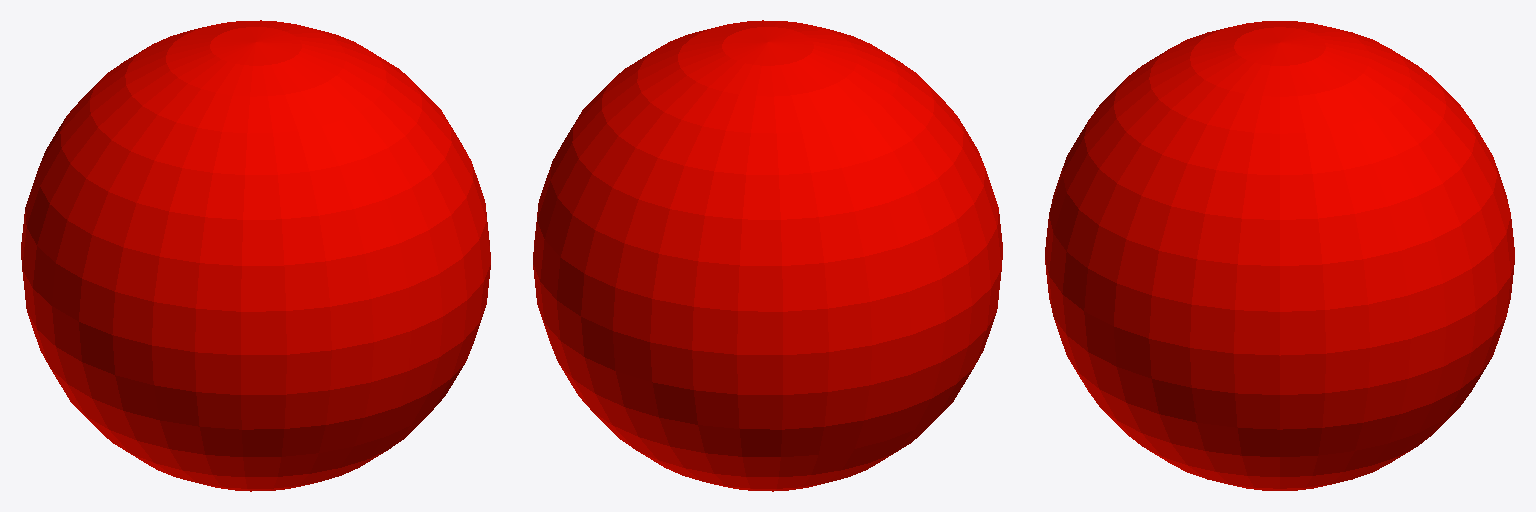
URDF robot description (bomb):
<?xml version="0.0" ?>
<robot name="bomb">
  <link name="base_link">
    <inertial>
      <mass value="1"/>
      <inertia ixx="1" ixy="0" ixz="0" iyy="1" iyz="0" izz="1"/>
    </inertial>
    <visual>
      <geometry>
        <sphere radius="0.5"/>
      </geometry>
      <material name="red">
        <color rgba="0.95 0.05 0 1.0"/>
      </material>
      <origin xyz="0 0 0.5"/>
    </visual>
  </link>
</robot>

--- What the picture shows (computed from the rendered views, not written in the file) ---
The picture shows the robot from 3 angles, left to right: view 1: azimuth 30°, elevation 25°; view 2: azimuth 150°, elevation 25°; view 3: azimuth 270°, elevation 25°; orthographic projection.
Robot: bomb — 1 links, 0 joints (none); root link base_link; default pose: all joints at 0.
Visible links, largest first — view 1: base_link; view 2: base_link; view 3: base_link.
Link boxes in pixels (left/top/right/bottom): base_link: left=21, top=20, right=490, bottom=491; base_link: left=533, top=20, right=1002, bottom=491; base_link: left=1045, top=21, right=1514, bottom=490.
Size in the robot's own frame: 1 by 1 by 1 metres.
Geometry: primitives only (box / cylinder / sphere), no mesh files.